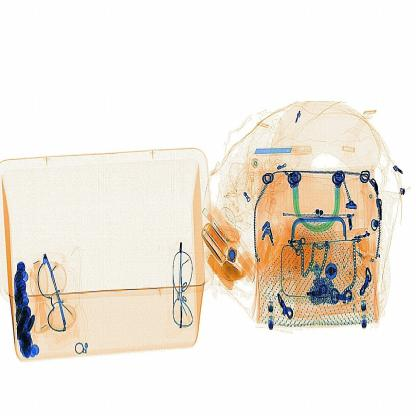pliers: (252, 140, 317, 164)
